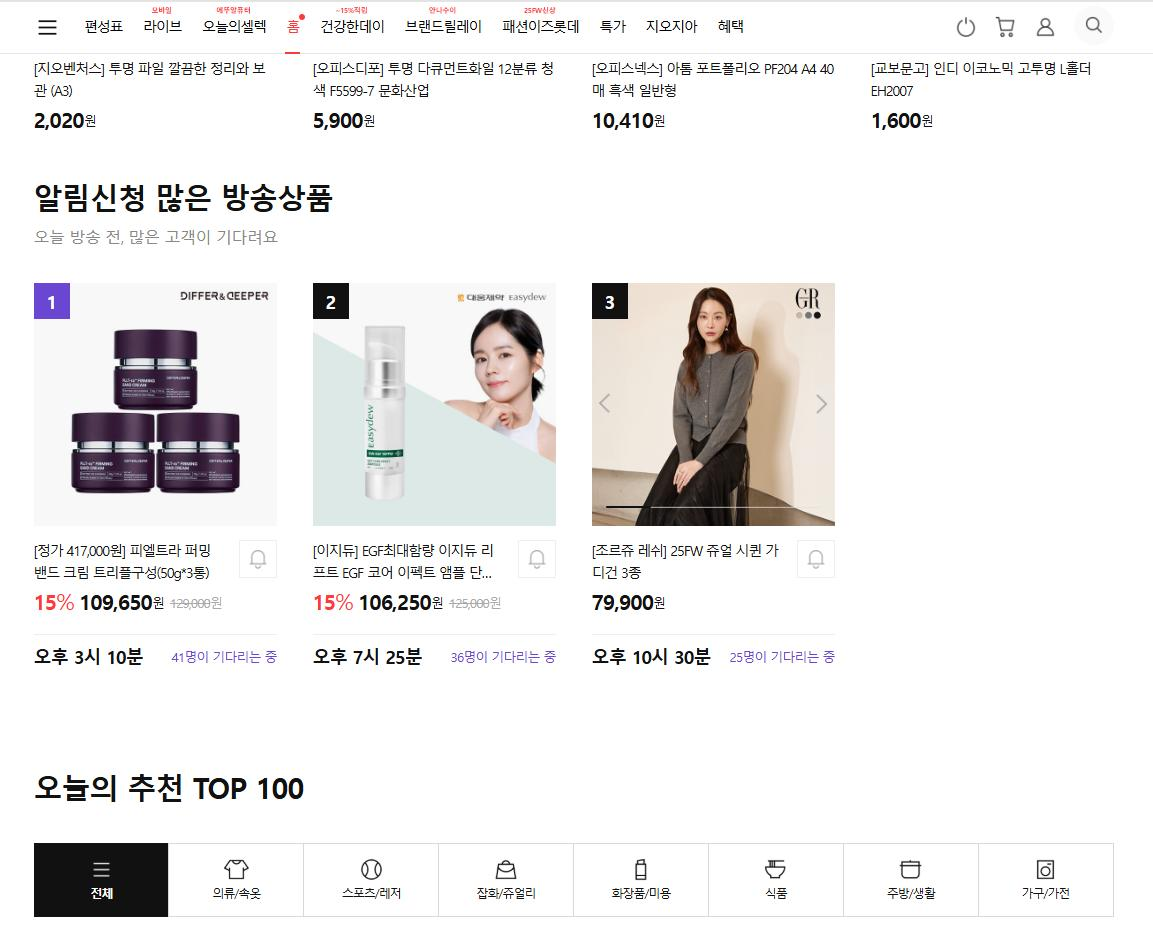button: (979, 842, 1114, 918), (710, 839, 838, 917), (443, 839, 569, 917), (37, 839, 165, 914), (173, 842, 299, 916), (579, 842, 703, 916), (304, 843, 434, 913), (847, 843, 973, 913), (493, 0, 581, 51), (400, 0, 485, 52), (317, 0, 394, 51), (197, 2, 269, 51), (640, 0, 704, 52), (710, 3, 761, 55), (136, 2, 190, 50), (1069, 2, 1121, 51), (76, 2, 127, 48), (590, 3, 633, 55), (273, 2, 312, 59), (236, 536, 279, 586), (514, 540, 559, 583), (937, 6, 982, 47), (27, 2, 64, 50), (797, 540, 838, 583), (804, 379, 834, 430), (986, 6, 1023, 47), (1030, 3, 1062, 47), (596, 380, 617, 426)
